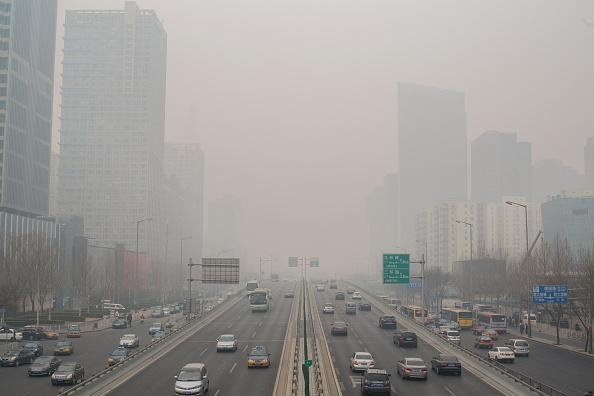bus: (440, 307, 474, 331), (476, 311, 507, 335), (399, 304, 428, 326), (248, 288, 271, 312), (382, 297, 401, 312), (246, 279, 259, 297), (271, 273, 280, 282)
car: (172, 362, 210, 394), (359, 366, 393, 395), (396, 356, 429, 381), (51, 362, 85, 386), (28, 356, 62, 377), (431, 353, 462, 376), (1, 347, 36, 367), (247, 345, 273, 368), (349, 351, 376, 373), (503, 338, 530, 358), (391, 329, 418, 348), (487, 346, 515, 364), (215, 334, 238, 353), (107, 347, 129, 366), (17, 327, 42, 342), (22, 341, 44, 358), (36, 326, 60, 341), (442, 329, 462, 346), (119, 333, 140, 349), (378, 314, 397, 330), (330, 321, 349, 337), (53, 340, 73, 355), (3, 328, 23, 342), (519, 313, 537, 328), (474, 335, 493, 349), (481, 328, 499, 341), (148, 323, 164, 336), (110, 317, 127, 329), (66, 325, 81, 338), (344, 301, 357, 314), (322, 303, 334, 314), (165, 318, 178, 328), (151, 308, 164, 318), (335, 290, 346, 301), (359, 301, 371, 311), (283, 288, 295, 298), (352, 292, 362, 300), (316, 283, 325, 291), (330, 279, 337, 289), (346, 287, 355, 294)
